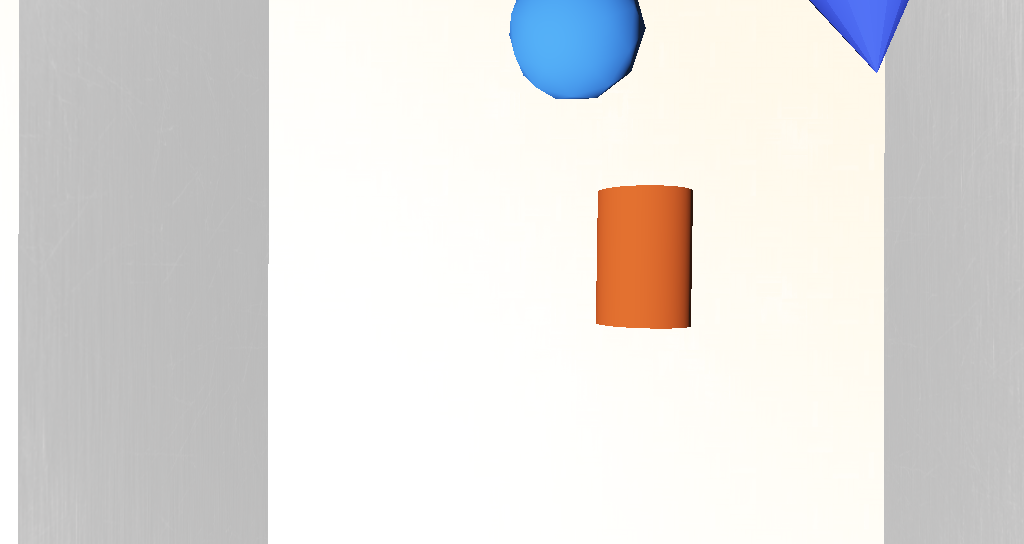cone: (515, 239, 563, 286)
cylinder: (603, 150, 677, 212)
sphere: (475, 169, 536, 212)
